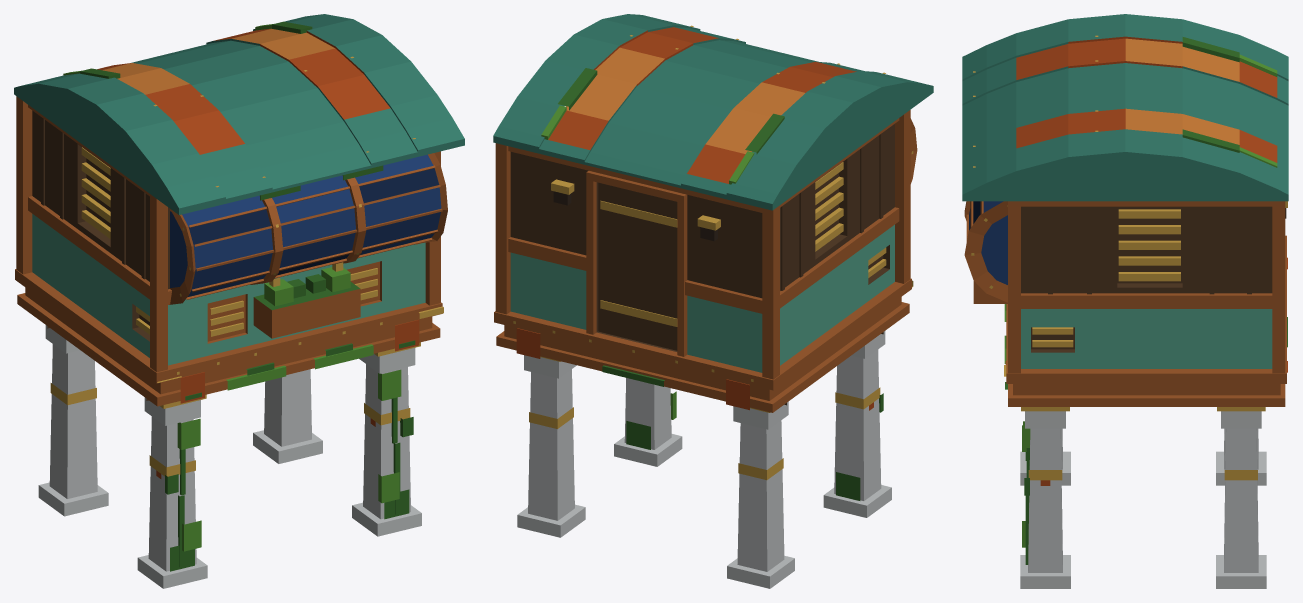
The model's file is gantry-loft-8da389.glb.
The picture shows the model from 3 angles, left to right: view 1: azimuth 30°, elevation 25°; view 2: azimuth 150°, elevation 25°; view 3: azimuth 270°, elevation 25°; orthographic projection. The views are drawn at different scales.
Visible parts, largest first — view 1: gantry-loft-body, planter-box, vent-l-leaf, vent-r-leaf; view 2: gantry-loft-body, door-leaf; view 3: gantry-loft-body.
Boxes of the visible parts, <box> form: gantry-loft-body: <box>14,14,464,588</box>; planter-box: <box>253,262,360,338</box>; vent-l-leaf: <box>207,294,245,341</box>; vent-r-leaf: <box>347,261,379,304</box>; gantry-loft-body: <box>493,14,933,588</box>; door-leaf: <box>598,182,677,350</box>; gantry-loft-body: <box>962,14,1288,588</box>.
Size of the model in its own units: 4 by 6 by 4.
